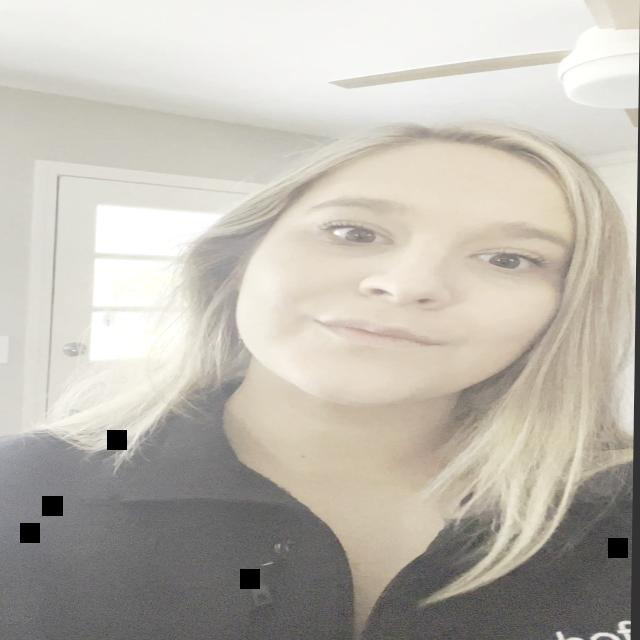NO-Mask: (196, 118, 600, 420)
